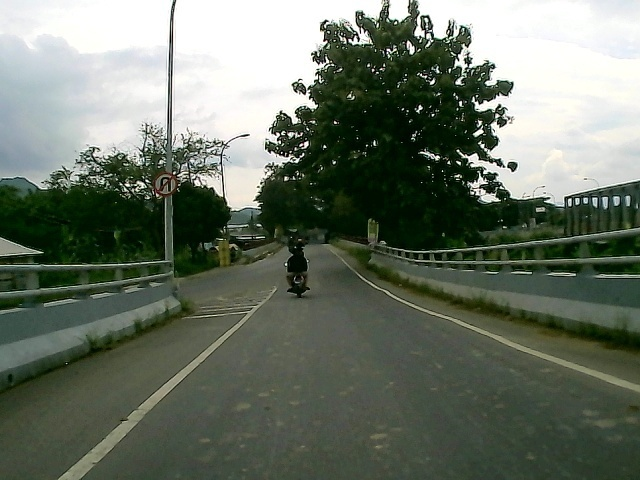Dilarang berbalik arah: (149, 171, 179, 198)
